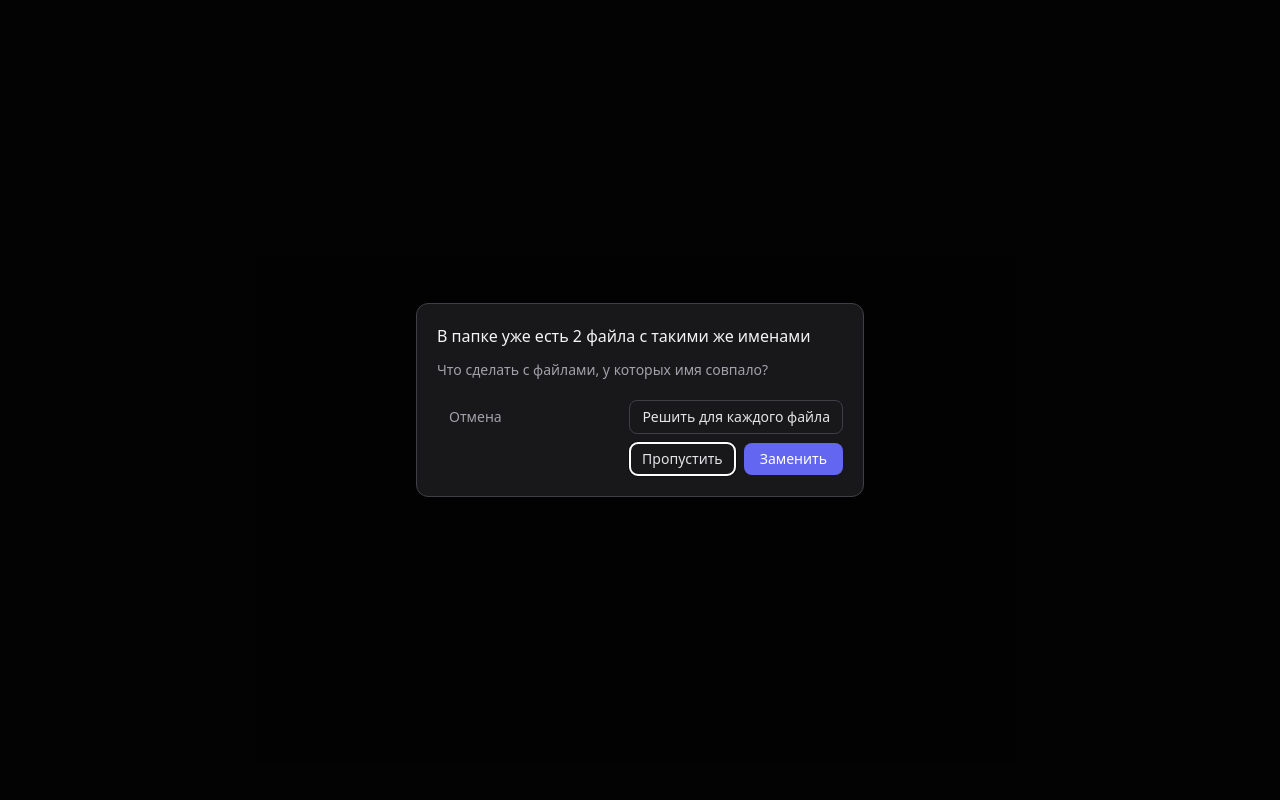
Test case: ConflictDialog › решение для каждого файла › «Продолжить» недоступно, пока у какого-то файла нет ни одной галочки
Click the button "Решить для каждого файла": click(736, 417) 629,400 -> 843,434
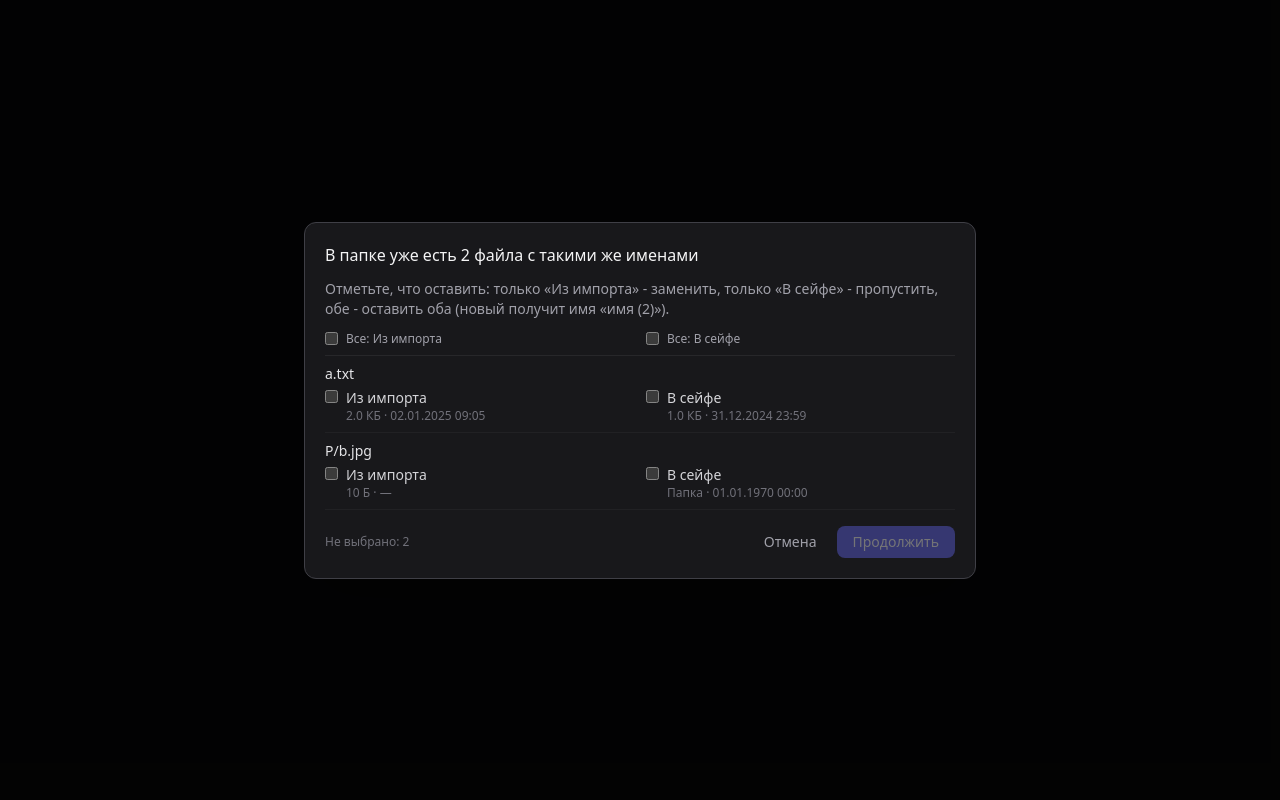
Check: the button "Продолжить" is disabled, box 836,526 -> 955,558
Check: the text "Не выбрано: 2" is shown, box 325,534 -> 410,550
Click the checkbox labelled "Из импорта 2.0 КБ · 02.01.2025 09:05": click(332, 396) 325,390 -> 338,402
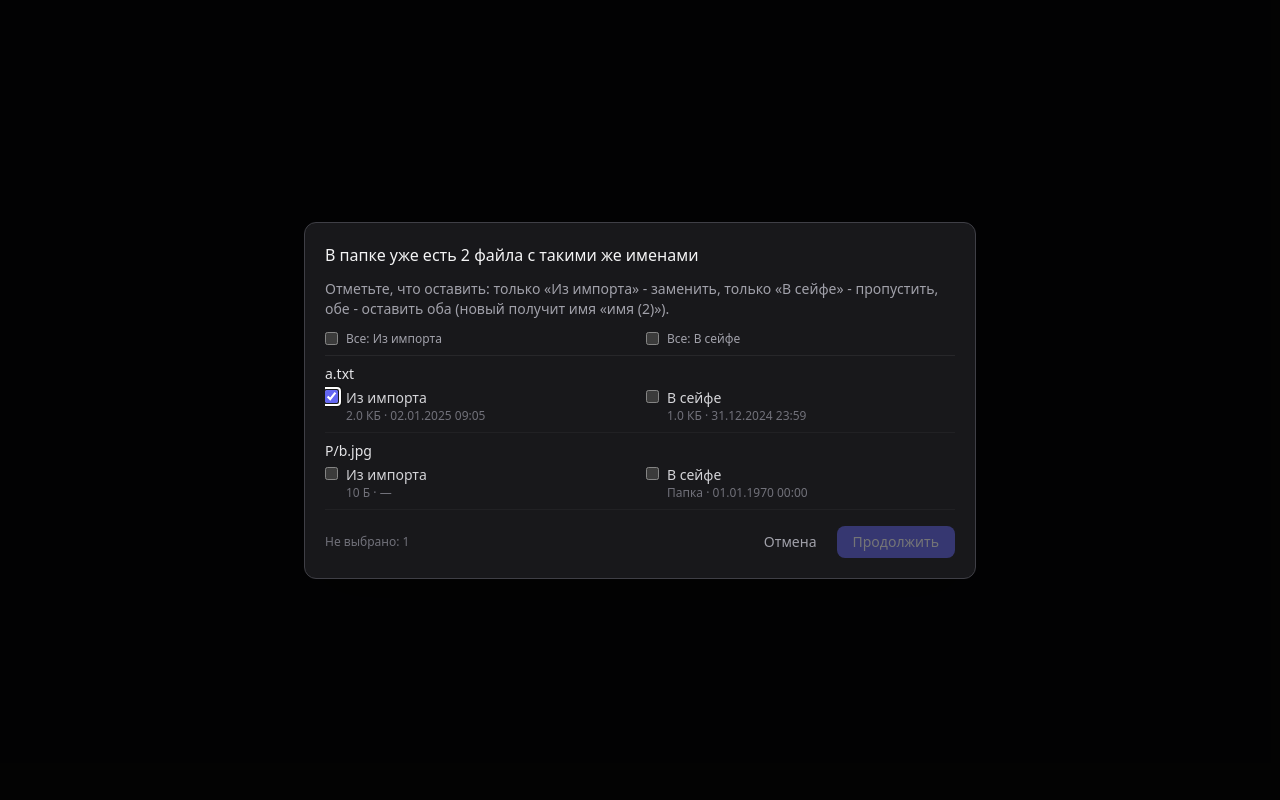
Check: the button "Продолжить" is disabled, box 836,526 -> 955,558
Check: the text "Не выбрано: 1" is shown, box 325,534 -> 410,550
